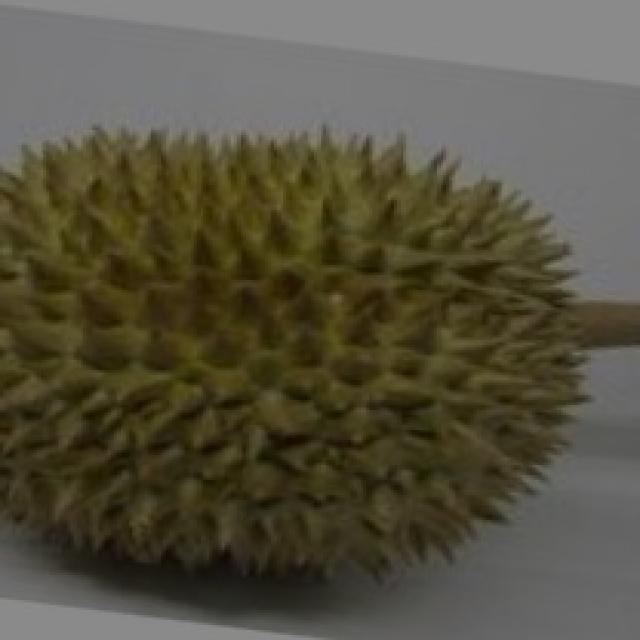fruit: (249, 200, 640, 632), (3, 270, 357, 620)
